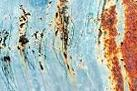rust: (98, 6, 121, 90), (56, 1, 76, 75), (120, 1, 136, 91), (16, 8, 32, 65), (1, 31, 12, 79)
